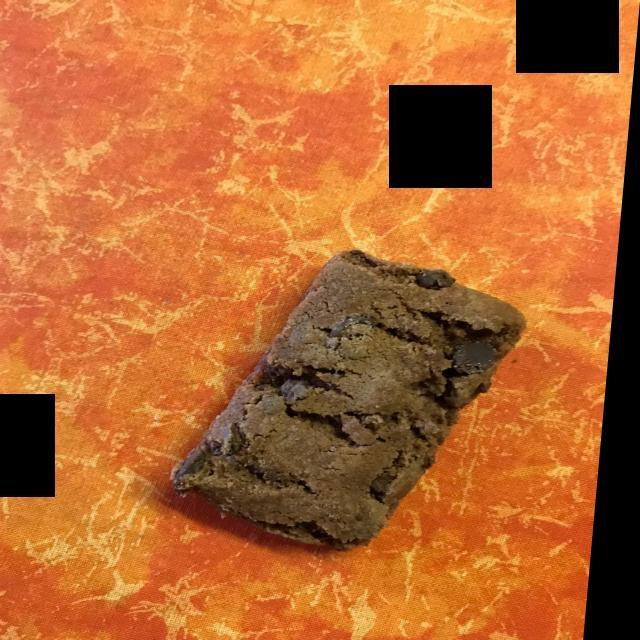brownie: (197, 259, 526, 548)
